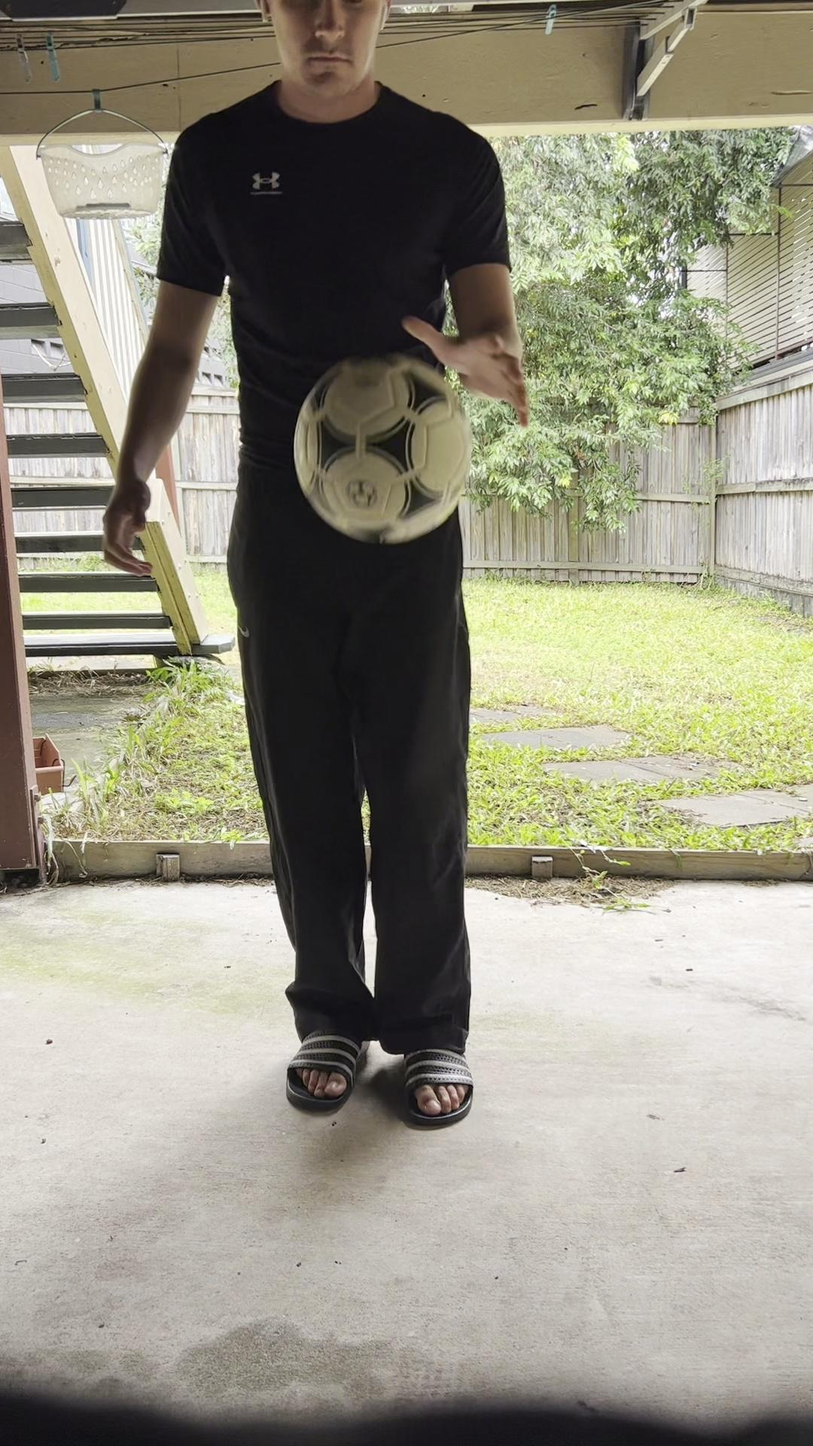ball: (294, 354, 471, 541)
foot: (284, 1022, 367, 1117), (396, 1033, 475, 1132)
person: (93, 0, 531, 1135)
